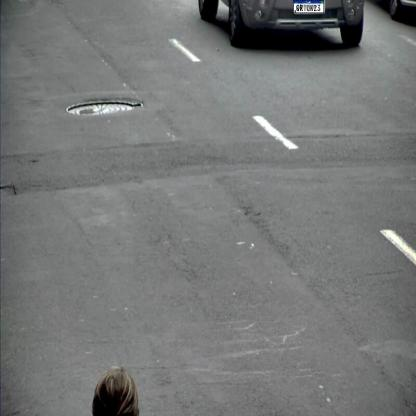PlacaM: (293, 0, 324, 13)
